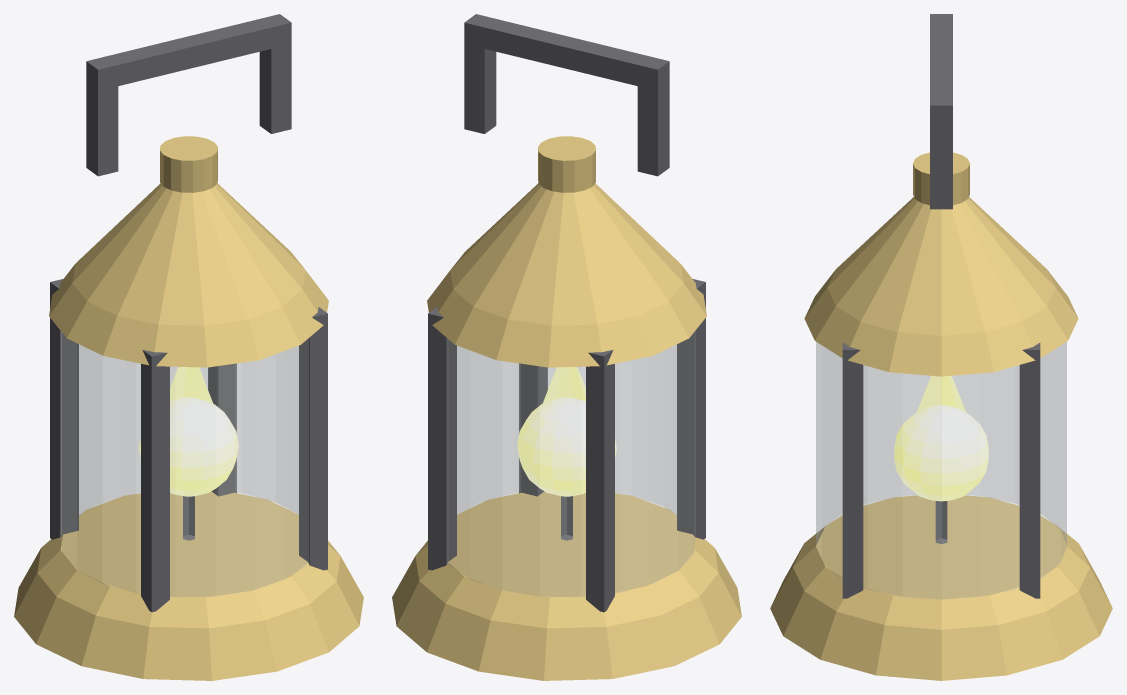
The model's file is lantern.glb.
The picture shows the model from 3 angles, left to right: view 1: azimuth 30°, elevation 25°; view 2: azimuth 150°, elevation 25°; view 3: azimuth 270°, elevation 25°; orthographic projection. The views are drawn at different scales.
Parts seen in each view (by area): view 1: Lantern; view 2: Lantern; view 3: Lantern.
Boxes of the visible parts, left/top/right/bottom form: Lantern: left=14, top=14, right=363, bottom=680; Lantern: left=392, top=14, right=741, bottom=680; Lantern: left=770, top=14, right=1112, bottom=680.
Bounding box in the file's own units: 0.6 × 1.06 × 0.6.
